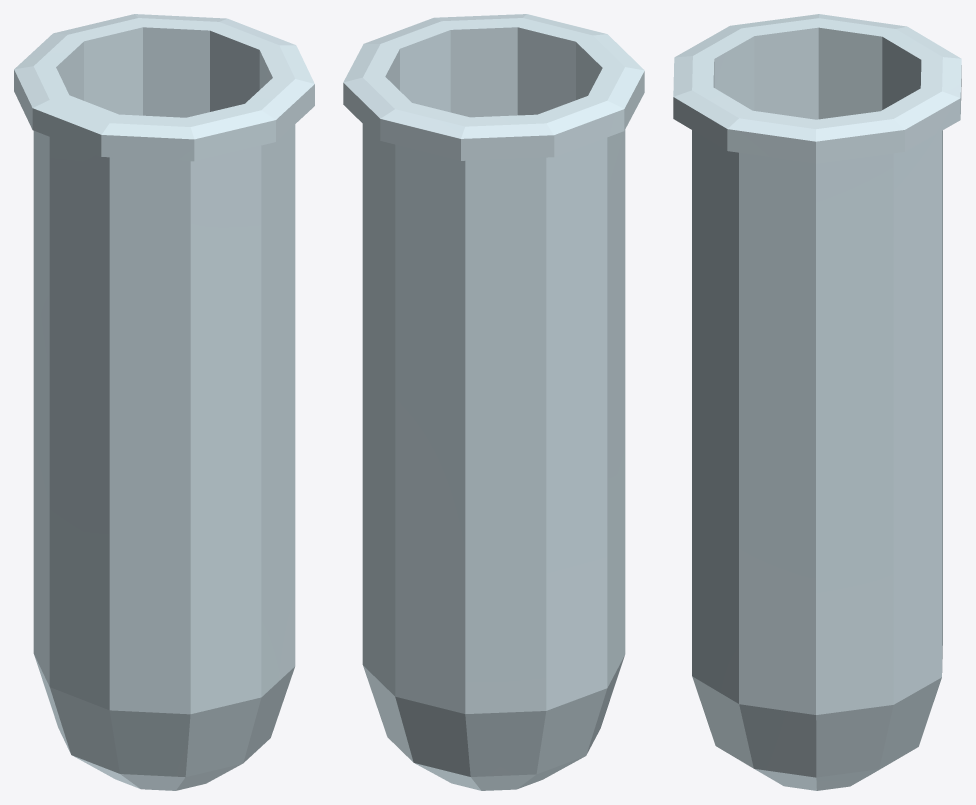
3 views of the same model, side by side, from view 1: azimuth 30°, elevation 25°; view 2: azimuth 150°, elevation 25°; view 3: azimuth 270°, elevation 25° (orthographic).
Visible parts, largest first — view 1: test_tube_3; view 2: test_tube_3; view 3: test_tube_3.
Boxes of the visible parts, <box> form: test_tube_3: <box>14,14,314,790</box>; test_tube_3: <box>343,14,644,790</box>; test_tube_3: <box>673,14,961,790</box>.
Bounding box in the file's own units: 0.0291 × 0.0737 × 0.0278.
